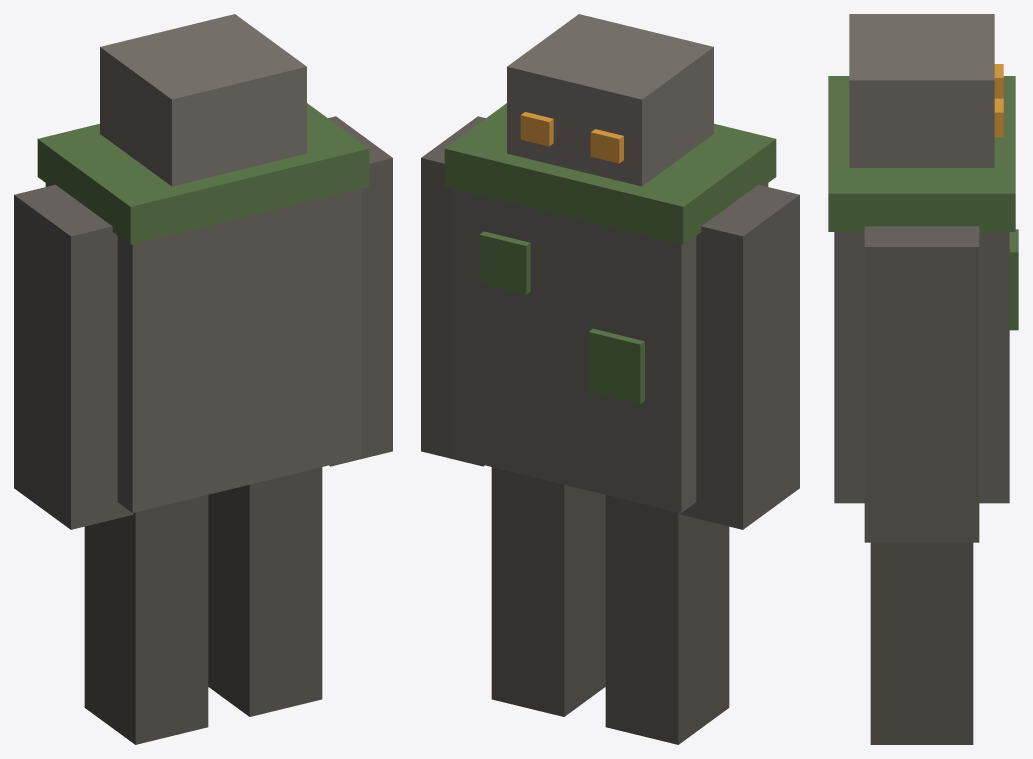
Rendered from barrow_warden.glb.
3 renders of one model, left to right at view 1: azimuth 30°, elevation 25°; view 2: azimuth 150°, elevation 25°; view 3: azimuth 270°, elevation 25°, orthographic.
Visible parts, largest first — view 1: body, arm_a, leg_a, leg_b, arm_b; view 2: body, arm_a, leg_a, leg_b, arm_b; view 3: body, arm_b, leg_b.
Boxes of the visible parts, bbox=[...] form: body: bbox=[37, 14, 369, 512]; arm_a: bbox=[14, 184, 133, 529]; leg_a: bbox=[84, 495, 208, 744]; leg_b: bbox=[208, 467, 322, 716]; arm_b: bbox=[328, 116, 392, 466]; body: bbox=[444, 14, 776, 512]; arm_a: bbox=[680, 184, 799, 529]; leg_a: bbox=[605, 495, 729, 744]; leg_b: bbox=[491, 467, 605, 716]; arm_b: bbox=[421, 116, 485, 466]; body: bbox=[828, 14, 1018, 503]; arm_b: bbox=[864, 226, 979, 542]; leg_b: bbox=[870, 542, 973, 744].
Size of the model in its own units: 1.24 by 2.38 by 0.63.
